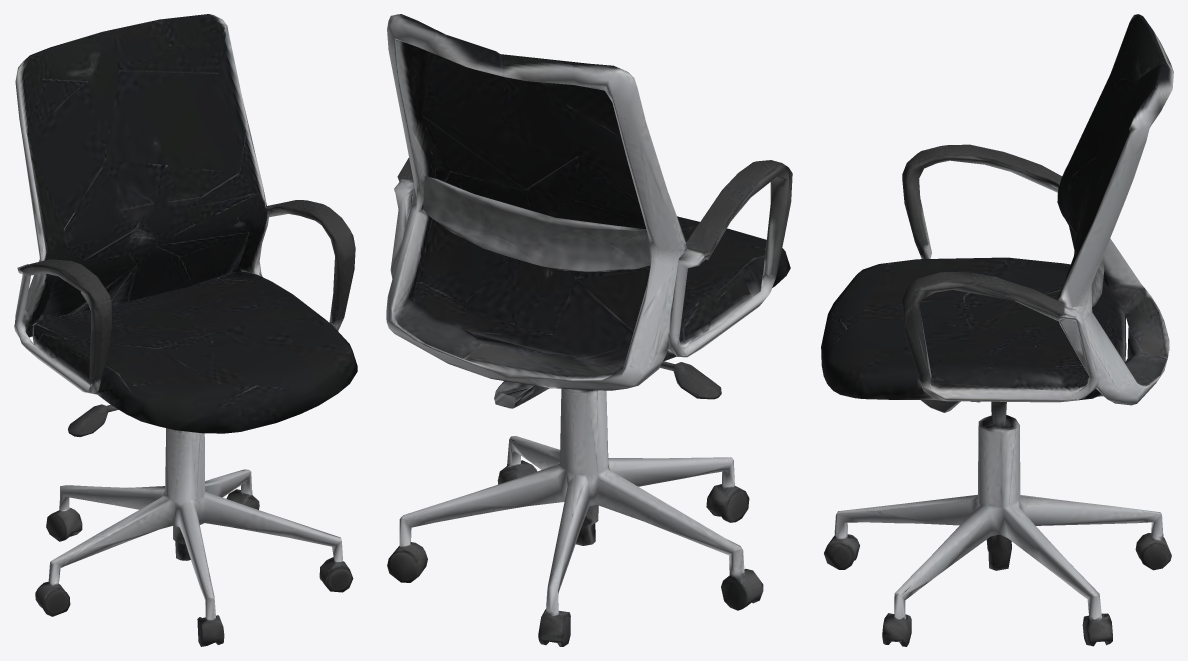
Rendered from office_chair.glb.
The picture shows the model from 3 angles, left to right: view 1: azimuth 30°, elevation 25°; view 2: azimuth 150°, elevation 25°; view 3: azimuth 270°, elevation 25°; orthographic projection. The views are drawn at different scales.
Size of the model in its own units: 1.11 by 1.9 by 1.15.
Materials: 1 (1 with a texture image).
